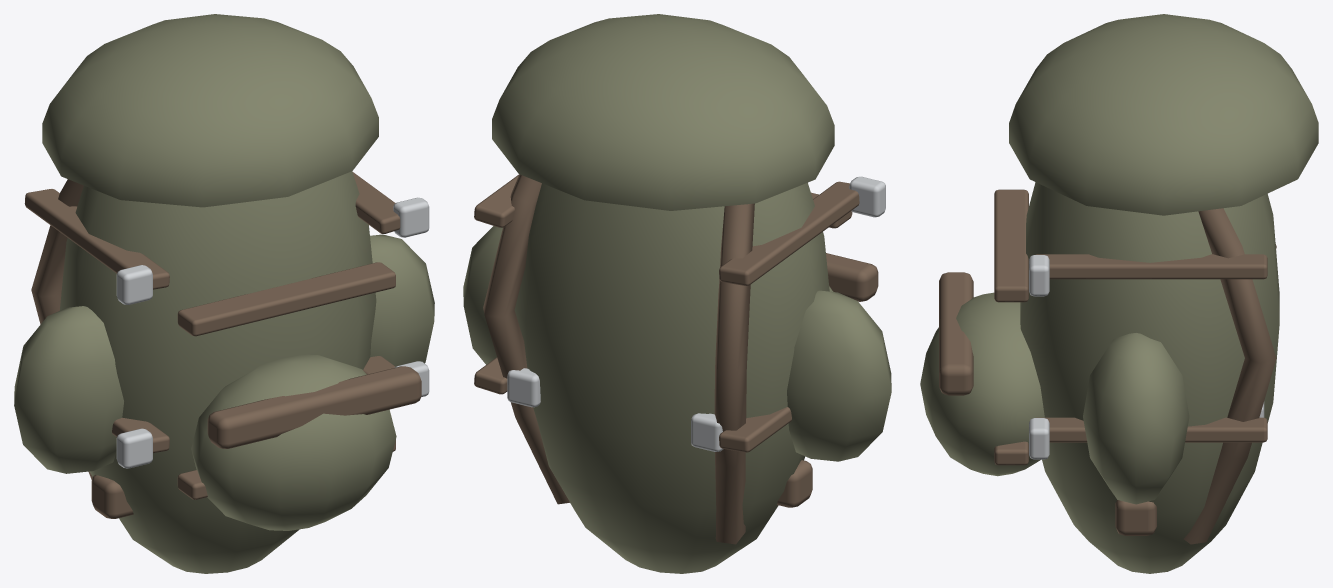
The model's file is fps-survival-forest-outpost-backpack-field-c4b3f20b__32663.glb.
The picture shows the model from 3 angles, left to right: view 1: azimuth 30°, elevation 25°; view 2: azimuth 150°, elevation 25°; view 3: azimuth 270°, elevation 25°; orthographic projection. The views are drawn at different scales.
Visible parts, largest first — view 1: backpack-field; view 2: backpack-field; view 3: backpack-field.
Boxes of the visible parts, box(x1,y1,x2,y2) form: backpack-field: box(14, 14, 434, 573); backpack-field: box(463, 14, 891, 573); backpack-field: box(920, 14, 1318, 573).
Size of the model in its own units: 0.7 by 0.838 by 0.5758.
